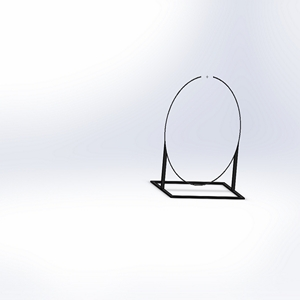circle: (149, 71, 249, 202)
